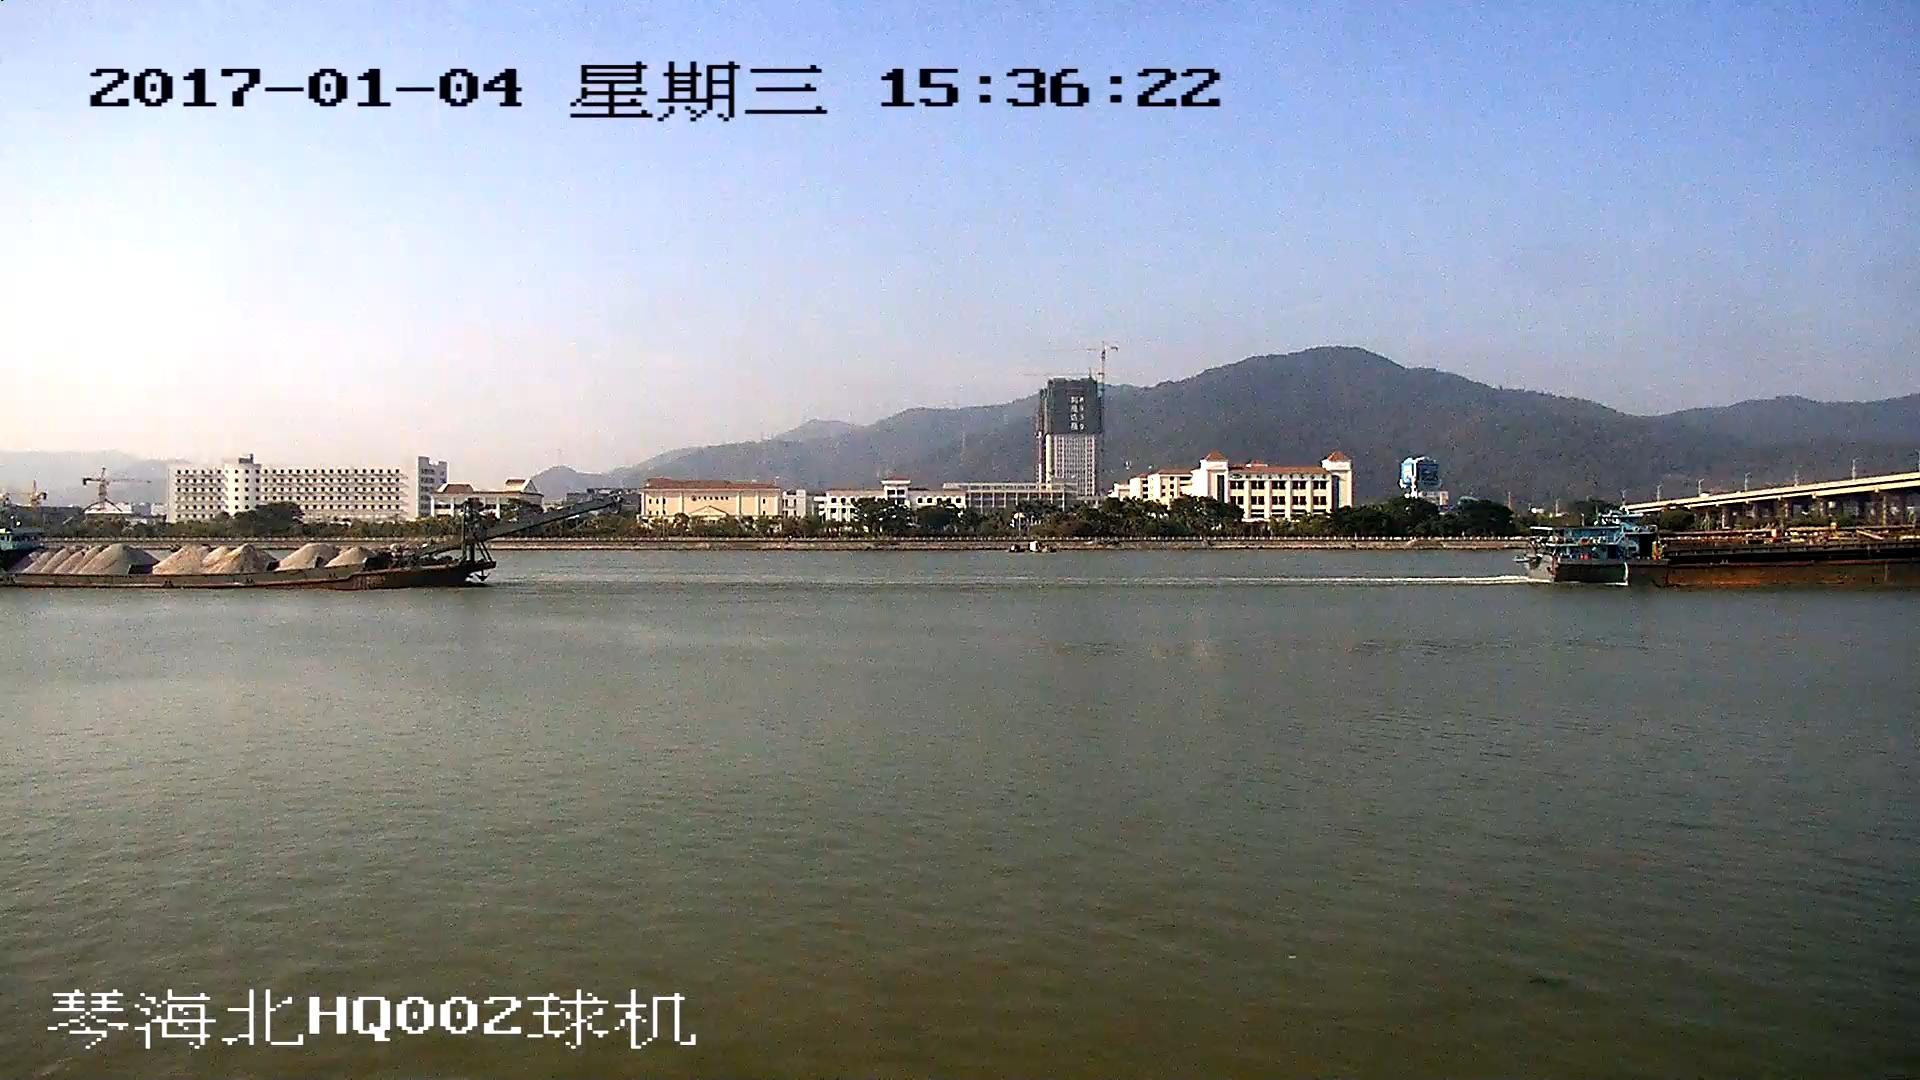bulk cargo carrier: (1521, 522, 1920, 587)
ore carrier: (1, 499, 610, 591)
